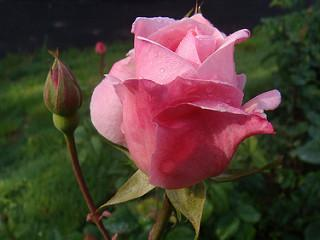Rose: (87, 8, 280, 186)
